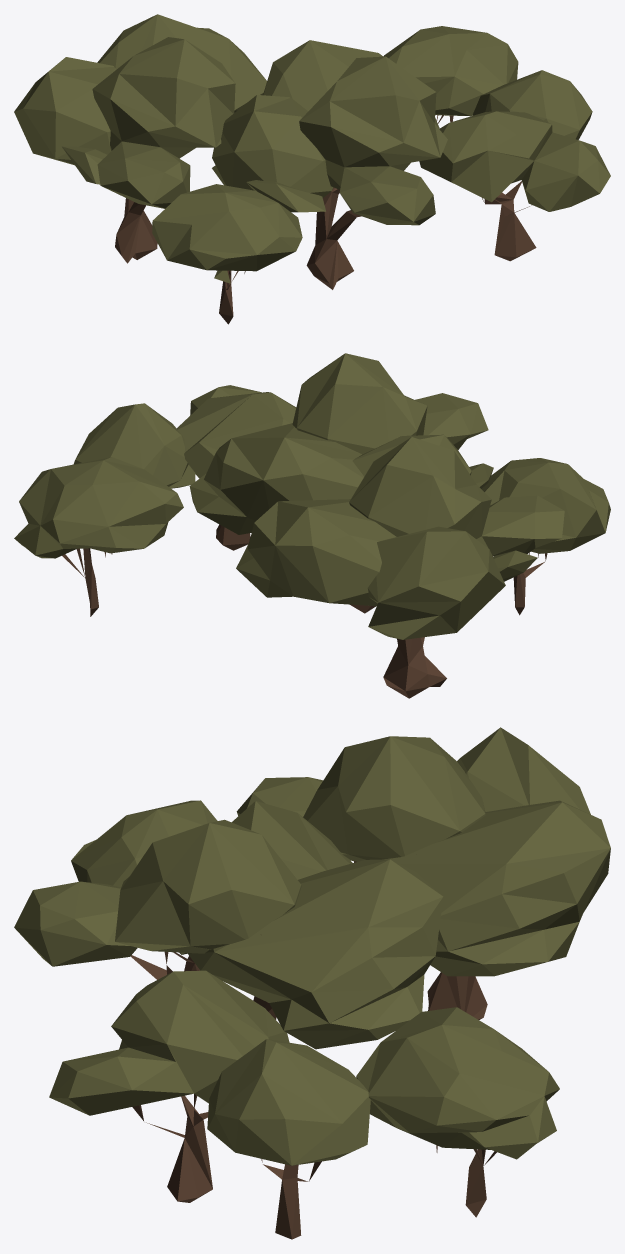
The model's file is bg-treegroup.glb.
3 views of the same model, one above another, from view 1: azimuth 30°, elevation 25°; view 2: azimuth 150°, elevation 25°; view 3: azimuth 270°, elevation 25° (orthographic). The views are drawn at different scales.
Parts seen in each view (by area): view 1: SM_Env_Tree_Group_01; view 2: SM_Env_Tree_Group_01; view 3: SM_Env_Tree_Group_01.
Boxes of the visible parts, x1,y1,x2,y2 form: SM_Env_Tree_Group_01: [14, 14, 610, 324]; SM_Env_Tree_Group_01: [14, 353, 610, 698]; SM_Env_Tree_Group_01: [14, 727, 610, 1239].
Size of the model in its own units: 13.42 by 6.16 by 10.7.
1 material, 1 textured.
